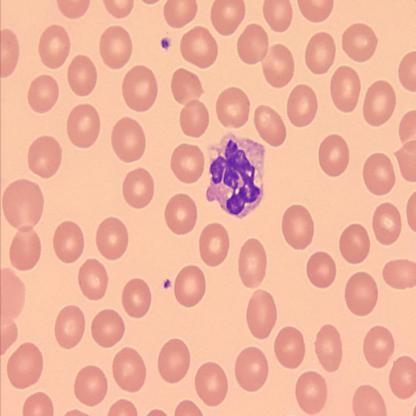Segmented neutrophil: (204, 128, 269, 223)
